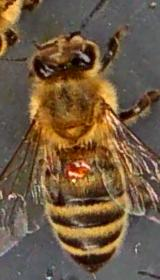varroa_mite: (64, 153, 96, 190)
